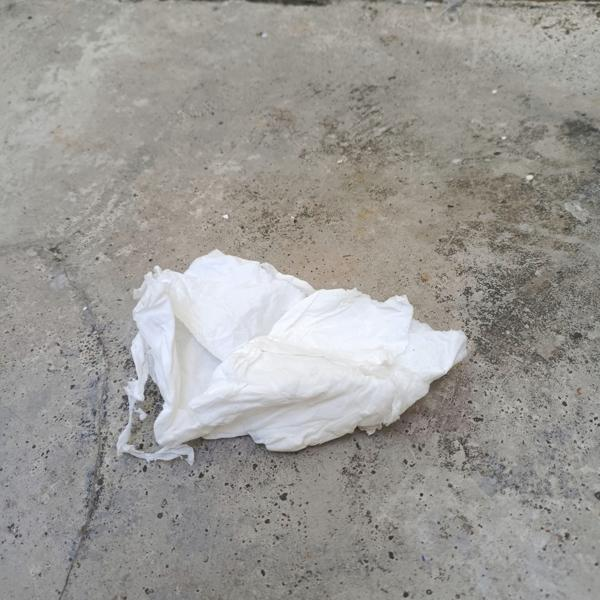Organik: (124, 226, 507, 477)
